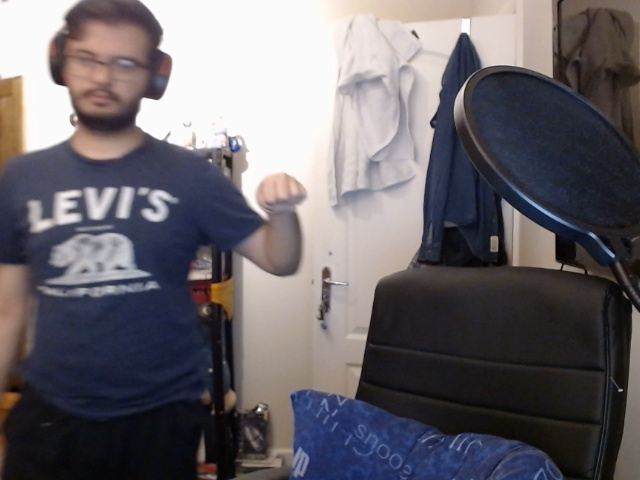Yes: (258, 164, 313, 227)
